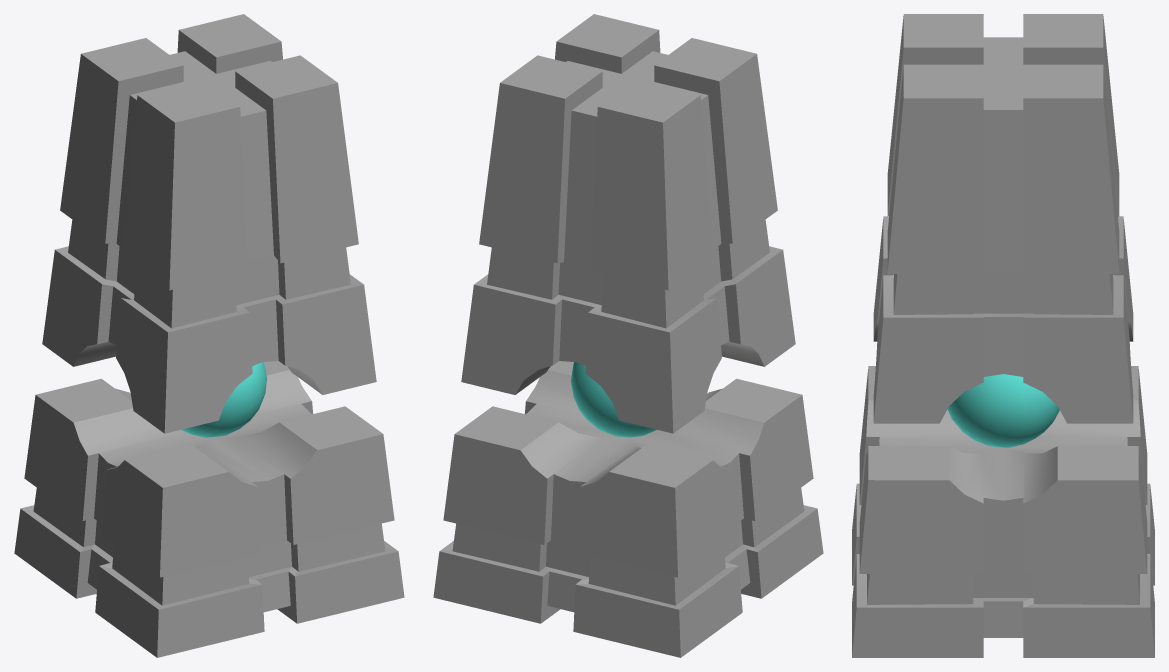
File: Room_3_4_OLE_obelisk.fbx
3 renders of one model, left to right at view 1: azimuth 30°, elevation 25°; view 2: azimuth 150°, elevation 25°; view 3: azimuth 270°, elevation 25°, orthographic. The views are drawn at different scales.
Visible parts, largest first — view 1: MonolithCenterd; view 2: MonolithCenterd; view 3: MonolithCenterd.
Boxes of the visible parts, x1=… form: MonolithCenterd: x1=14, y1=14, x2=404, y2=657; MonolithCenterd: x1=433, y1=14, x2=823, y2=657; MonolithCenterd: x1=852, y1=14, x2=1154, y2=657.
Bounding box in the file's own units: 604 × 1184 × 604.
